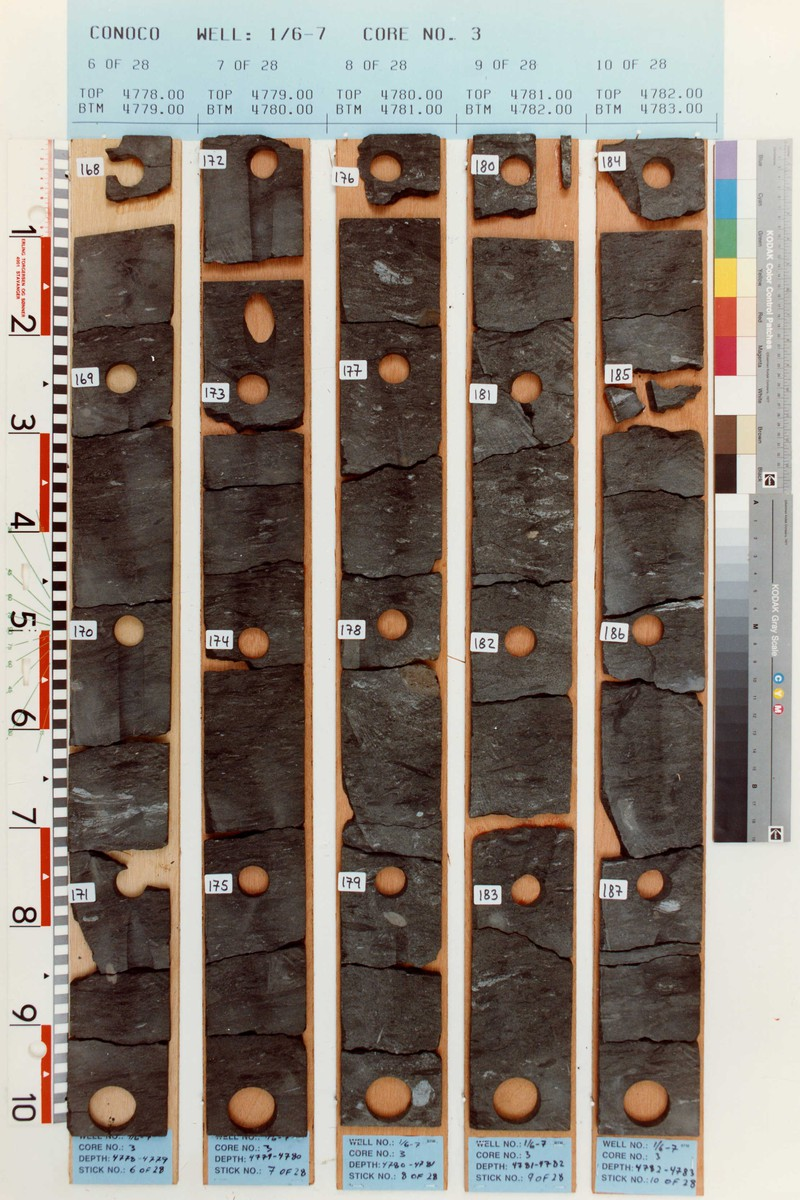core: (198, 135, 315, 1140), (335, 136, 450, 1131), (467, 135, 578, 1137), (67, 136, 174, 1136), (598, 140, 703, 1138)
